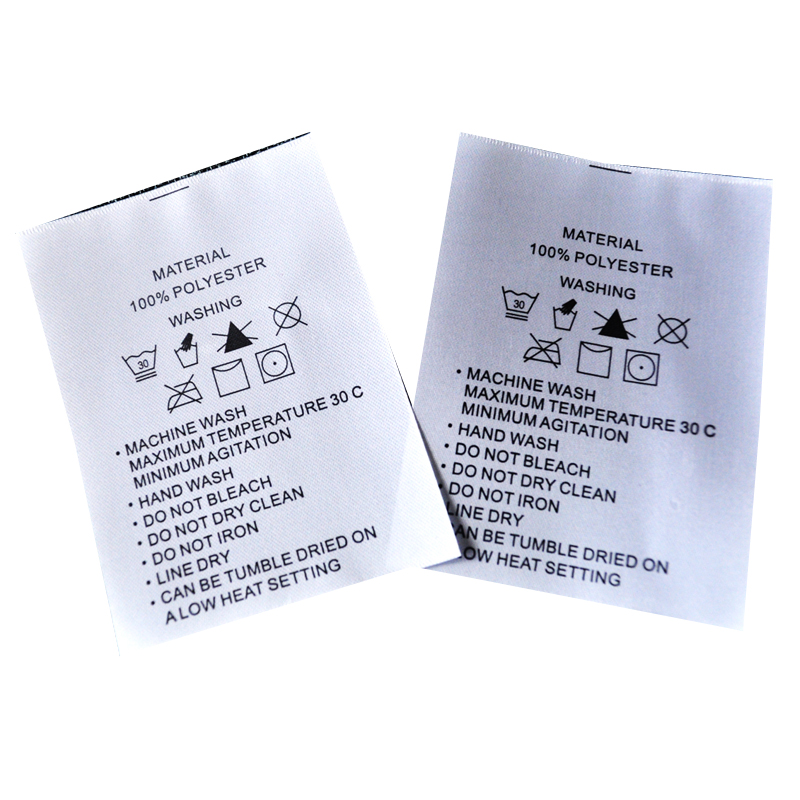ER_hand_wash: (168, 333, 204, 373), (547, 297, 582, 333)
ER_no_bleach: (592, 302, 638, 343), (214, 315, 258, 353)
ER_no_dry_clean: (264, 294, 309, 337), (651, 310, 692, 349)
ER_no_iron: (159, 377, 206, 412), (524, 330, 566, 369)
ER_tumble_dry_low_heat: (618, 345, 663, 390), (256, 340, 296, 385)
ER_wash_30_mild: (497, 282, 540, 324), (120, 346, 161, 384)
